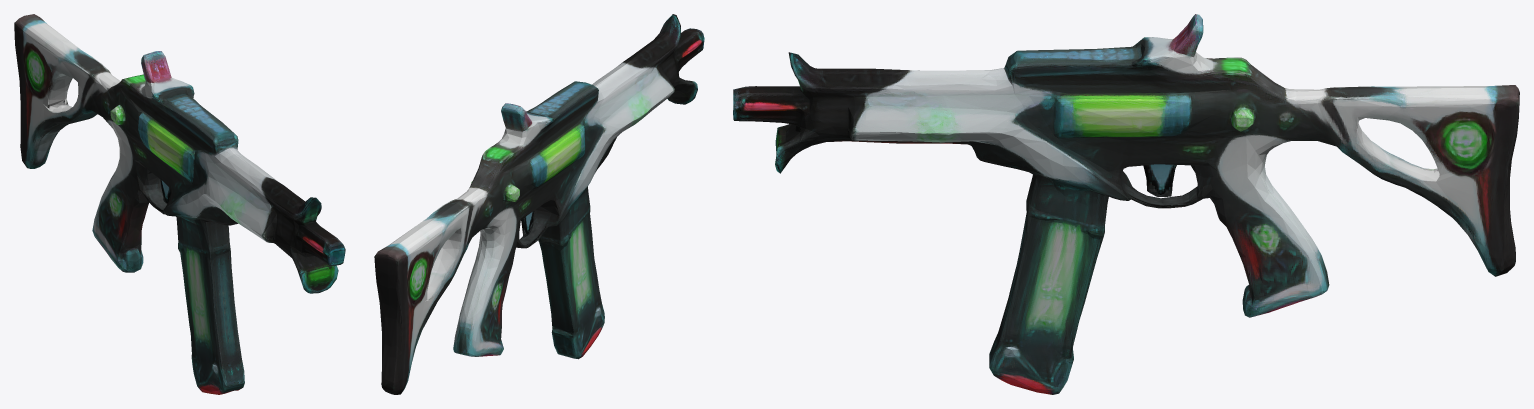
Rendered from tsuki_carbine_skin_140.fbx.
3 views of the same model, side by side, from view 1: azimuth 30°, elevation 25°; view 2: azimuth 150°, elevation 25°; view 3: azimuth 270°, elevation 25° (orthographic). The views are drawn at different scales.
Parts seen in each view (by area): view 1: geometry_0; view 2: geometry_0; view 3: geometry_0.
Boxes of the visible parts, <box> form: geometry_0: <box>14,14,345,394</box>; geometry_0: <box>374,14,704,394</box>; geometry_0: <box>733,14,1519,394</box>.
Bounding box in the file's own units: 0.1027 × 0.5204 × 1.
Materials: 1 (1 with a texture image).
